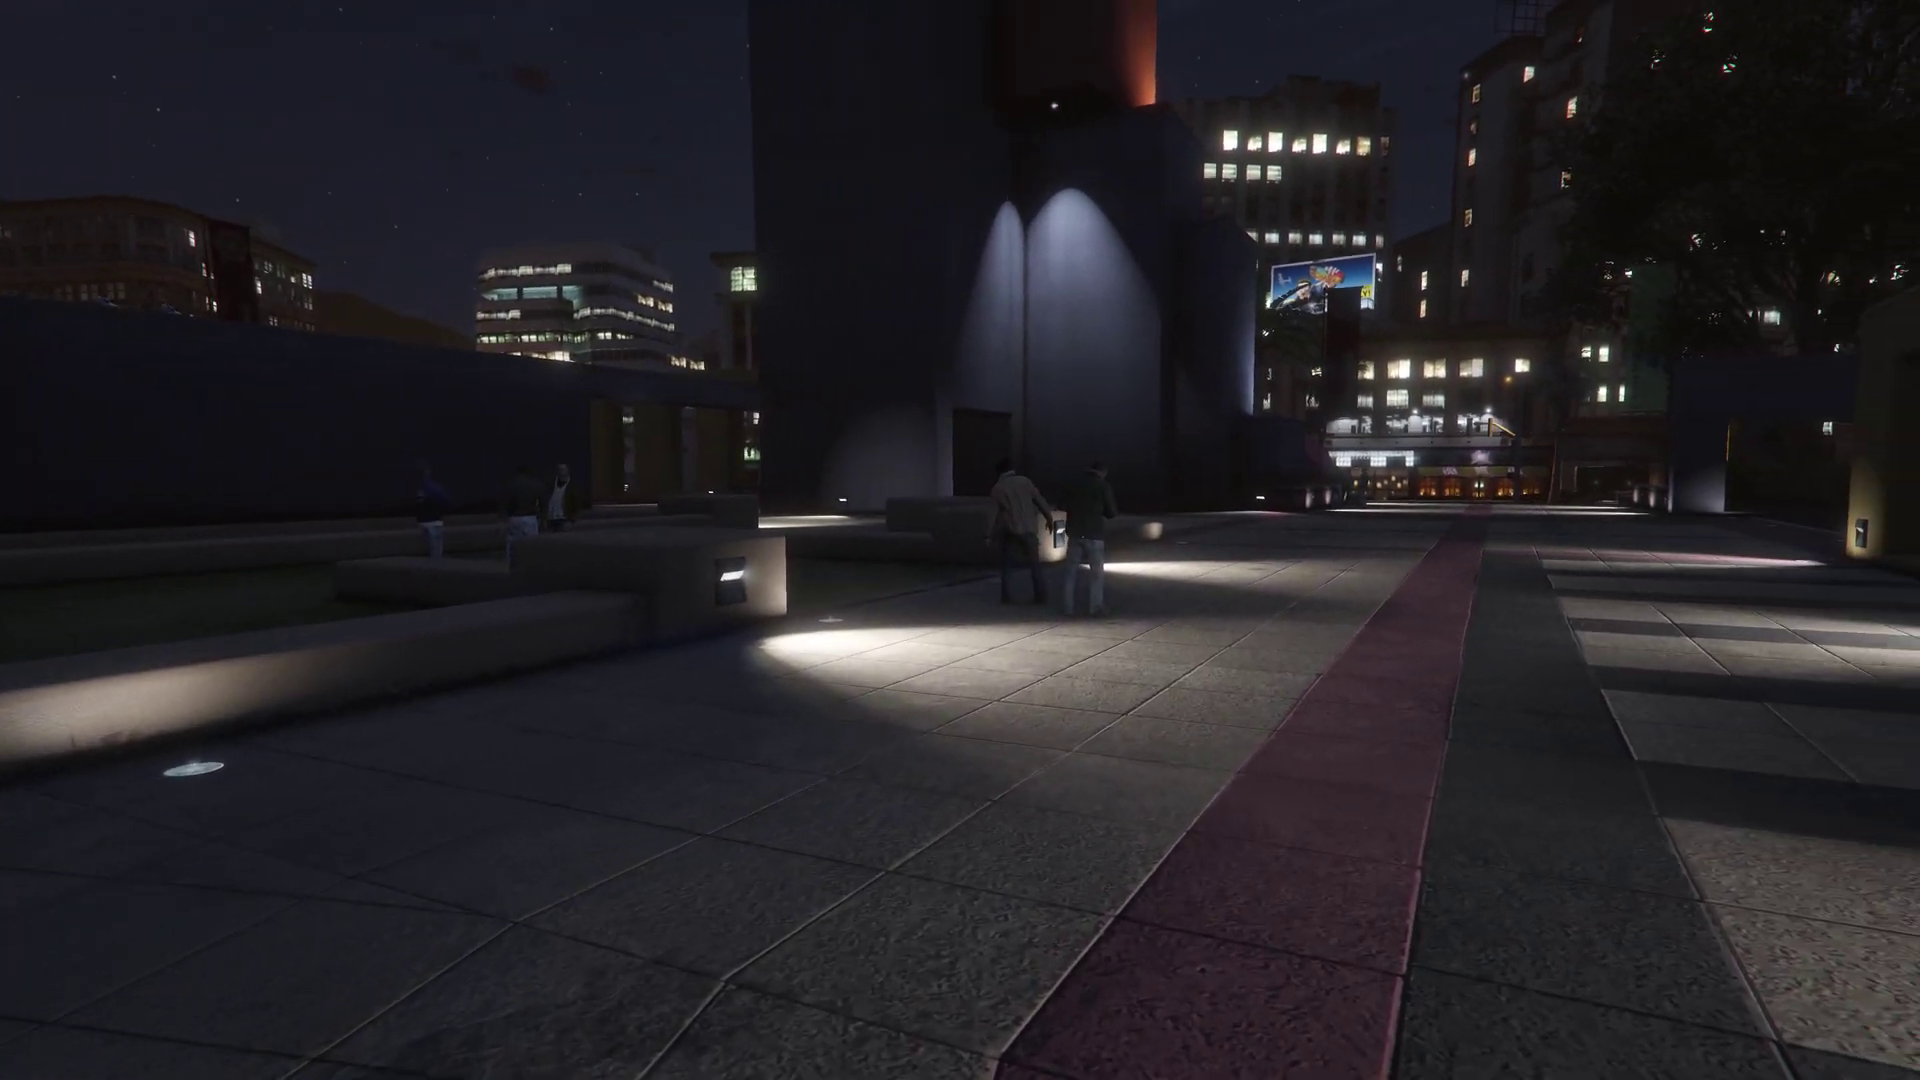person: (985, 461, 1056, 605), (1061, 459, 1118, 615), (413, 470, 453, 564), (501, 465, 541, 561), (546, 464, 577, 526)
